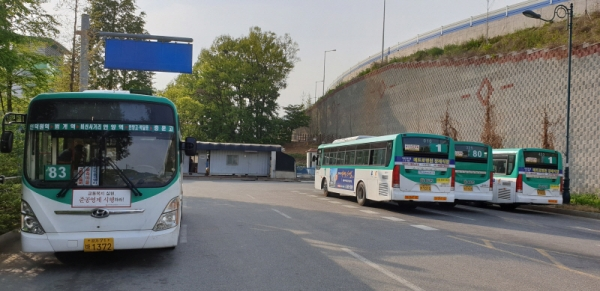bnum: (46, 164, 69, 179)
